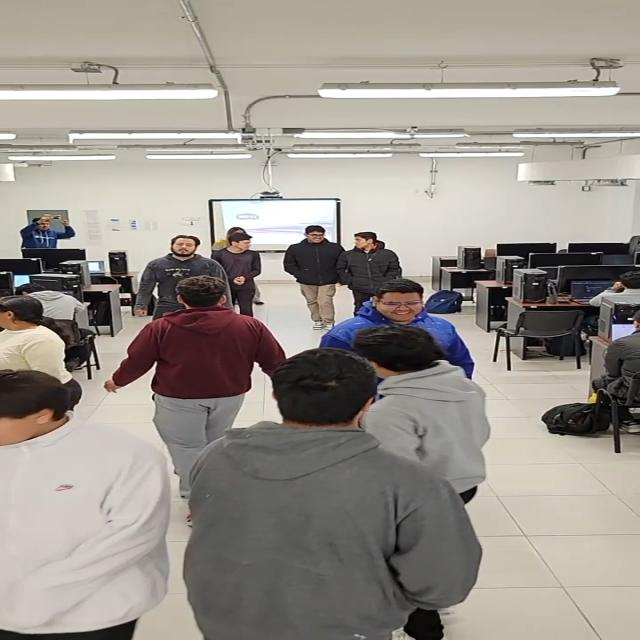Persona: (186, 348, 484, 640), (0, 365, 176, 640), (102, 273, 294, 489), (322, 324, 496, 510), (320, 282, 475, 372), (0, 289, 89, 407), (274, 225, 358, 334), (134, 234, 236, 316), (206, 225, 274, 314), (340, 229, 411, 313)
